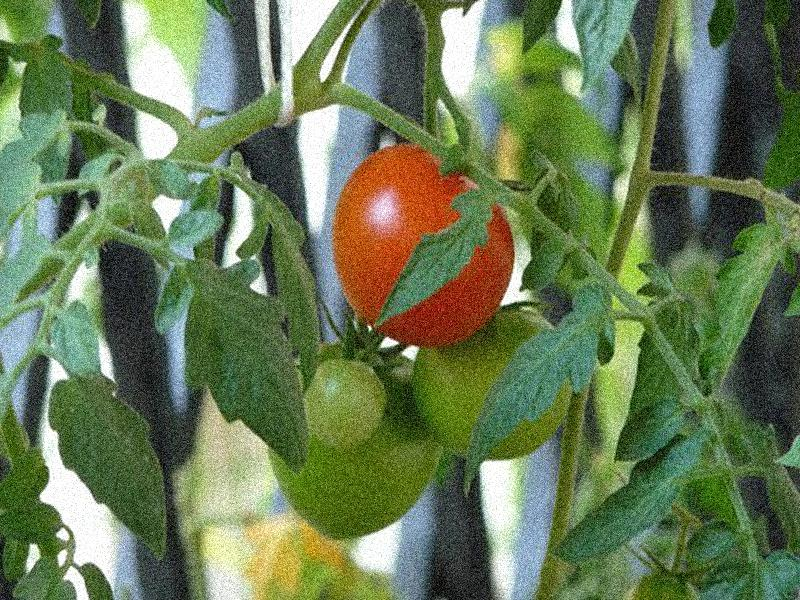Tomato: (331, 142, 514, 344)
